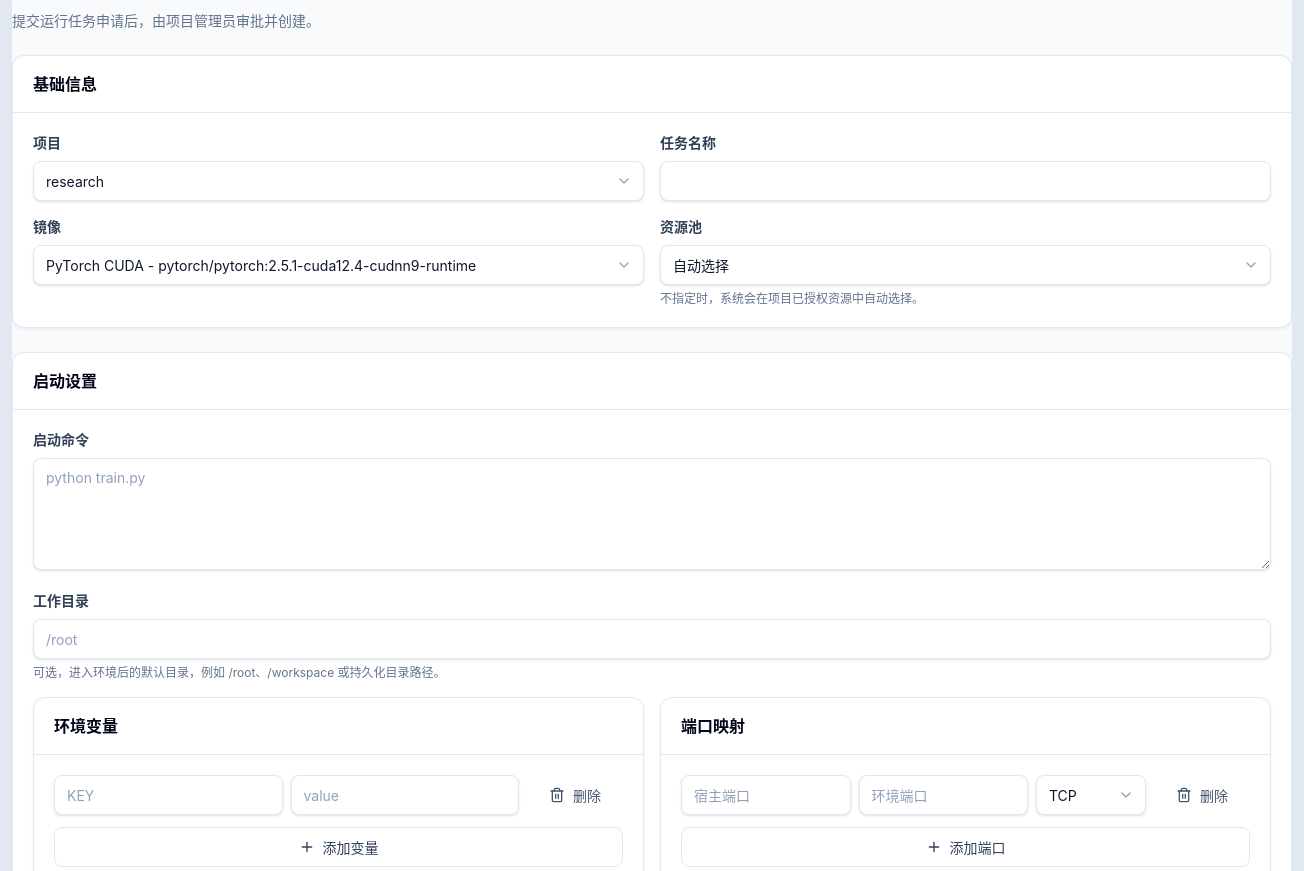
Test case: RunRequestCreatePage › shows field-level required feedback before submitting a run request
Clear the field labelled "任务名称": [966, 181] box [660,161,1271,201]
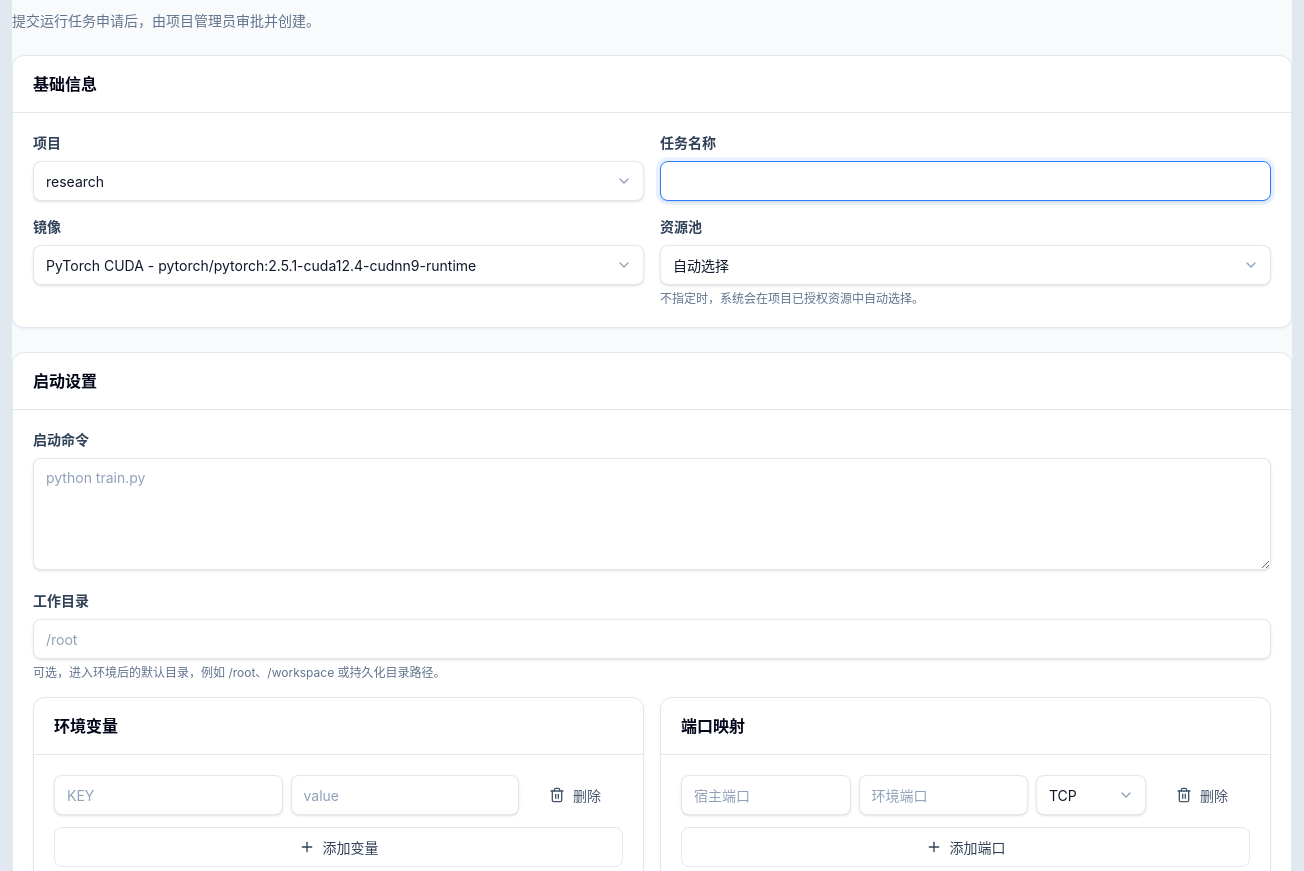
Select "请选择镜像" in the dropdown labelled "镜像": [338, 265] box [33,245,644,285]
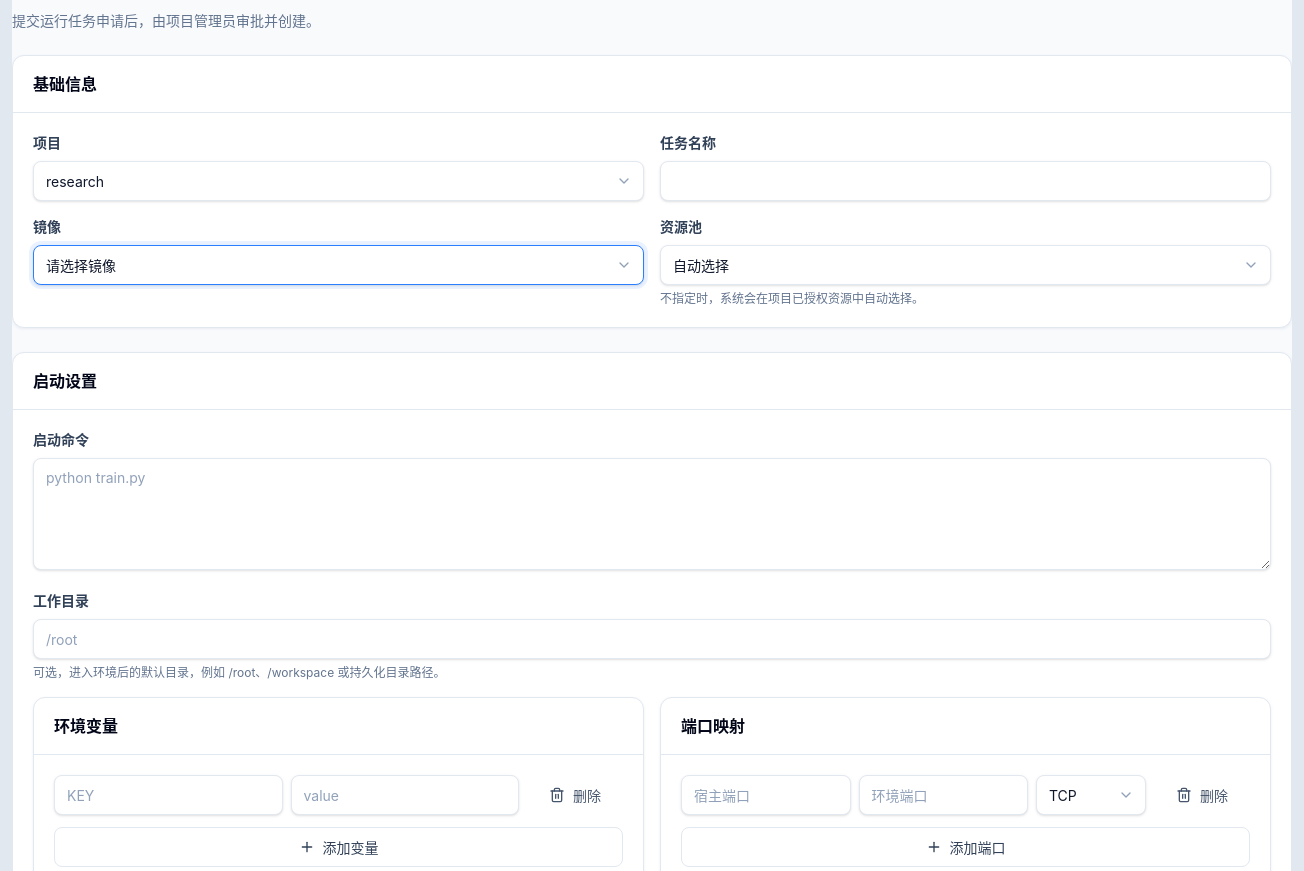
Clear the text box labelled "启动命令": [652, 514] box [33,458,1271,570]
(page scrolled)
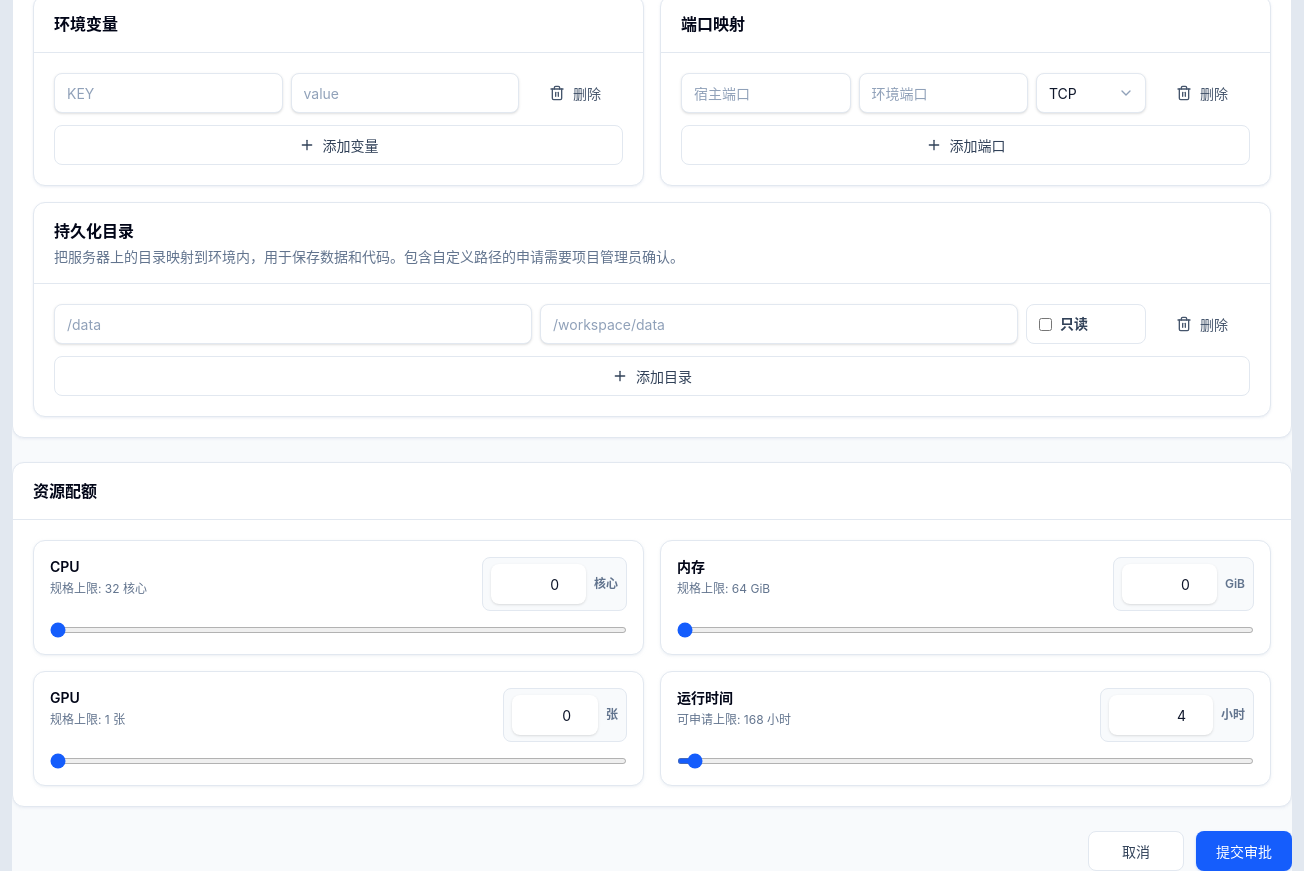
Click the button "提交审批": [1244, 851] box [1196,831,1292,870]
(page scrolled)
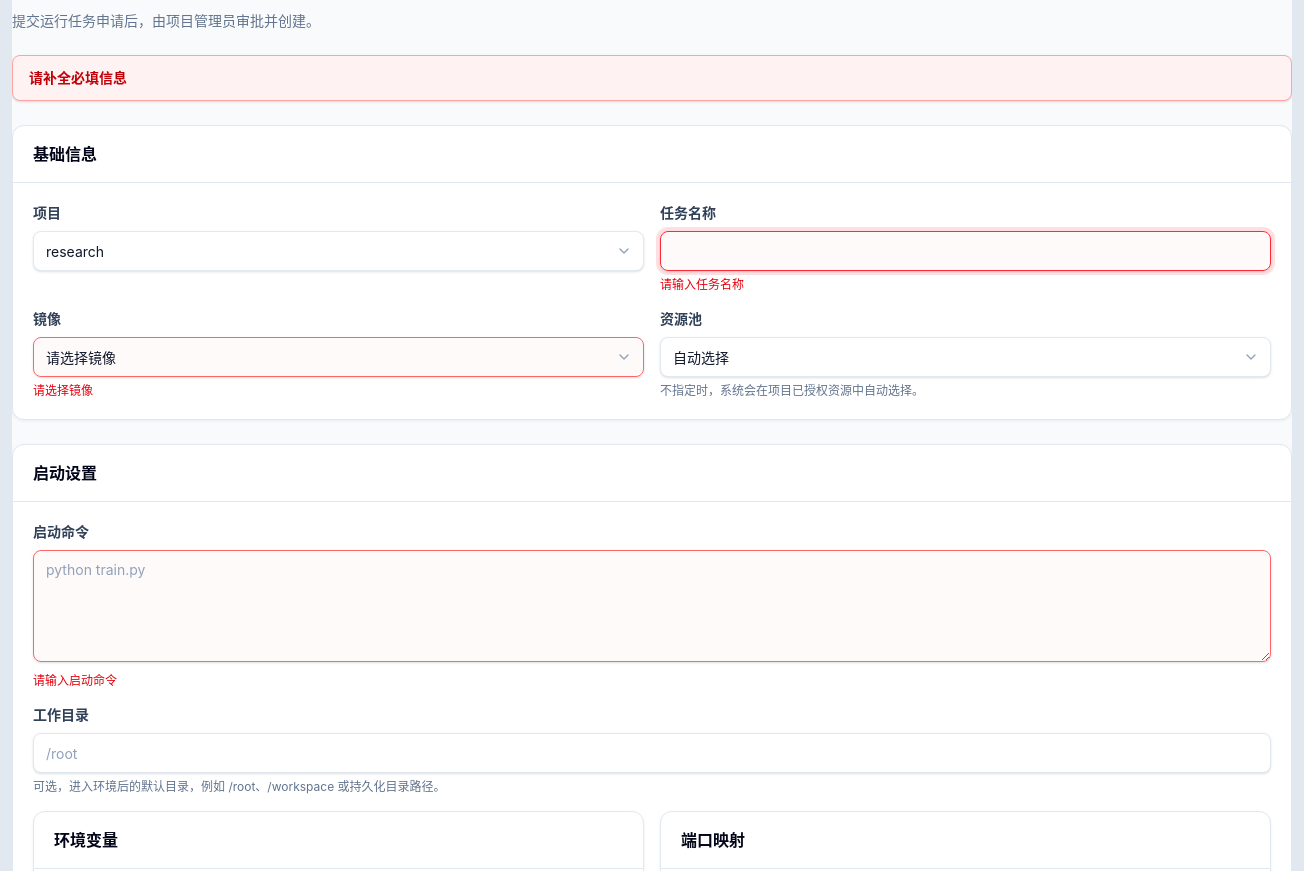
Expected: the text "请补全必填信息" is shown, [12,55,1292,101]
Expected: the text "请输入任务名称" is shown, [660,277,744,292]
Expected: the text "请选择镜像" is shown 2 times
